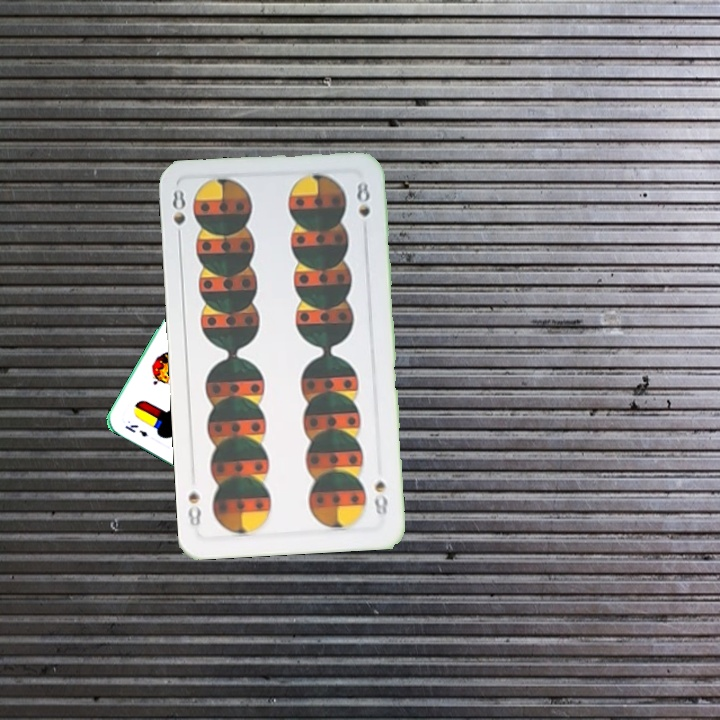EK: (121, 420, 150, 440)
S8: (168, 185, 188, 244), (370, 476, 390, 520)
